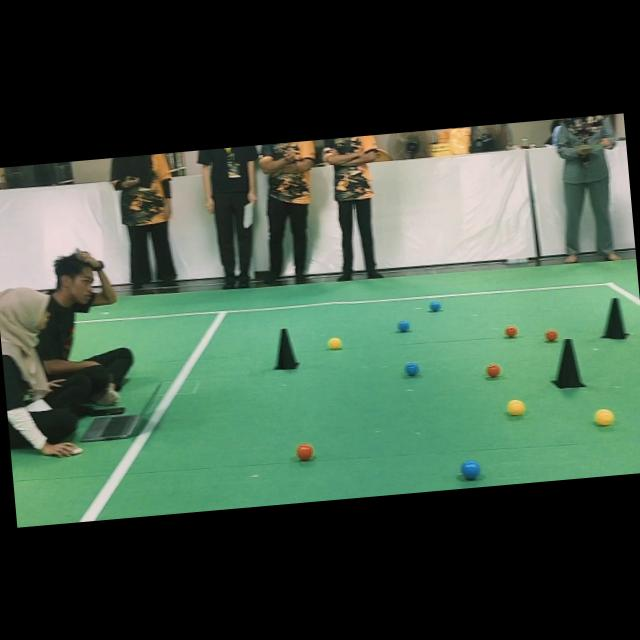ball: (594, 408, 615, 426), (461, 460, 480, 479), (296, 443, 314, 461), (507, 399, 525, 415), (485, 363, 501, 378), (405, 362, 420, 376), (544, 328, 558, 341), (504, 325, 518, 337), (397, 320, 410, 332), (328, 337, 341, 349), (429, 301, 442, 311)
